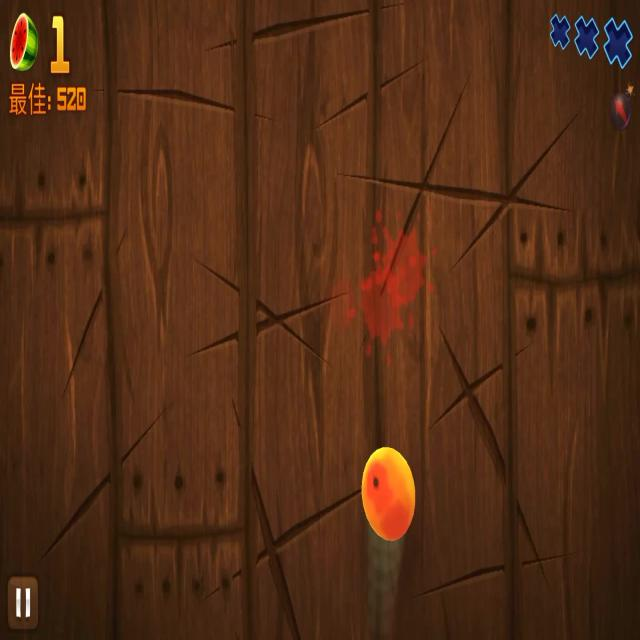fruit: (360, 440, 417, 547)
